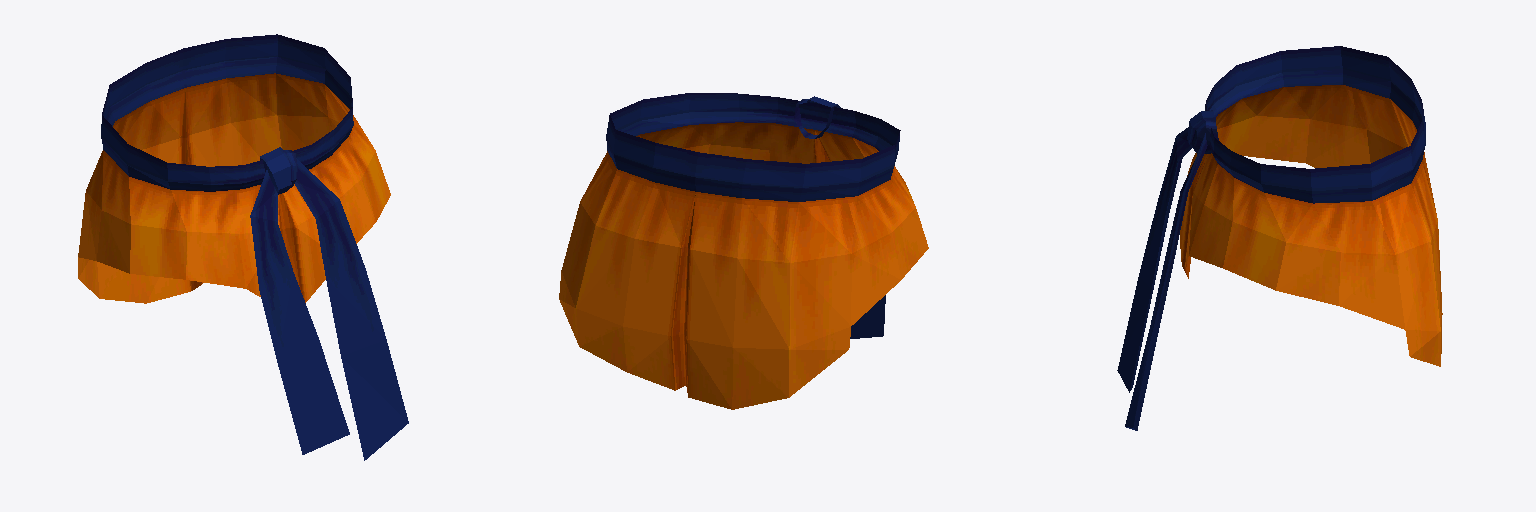
3 renders of one model, left to right at view 1: azimuth 30°, elevation 25°; view 2: azimuth 150°, elevation 25°; view 3: azimuth 270°, elevation 25°, orthographic.
Parts seen in each view (by area): view 1: Mesh.404_DrawCall_231.001; view 2: Mesh.404_DrawCall_231.001; view 3: Mesh.404_DrawCall_231.001.
Boxes of the visible parts, x1,y1,x2,y2 form: Mesh.404_DrawCall_231.001: [78, 34, 408, 460]; Mesh.404_DrawCall_231.001: [559, 93, 928, 409]; Mesh.404_DrawCall_231.001: [1117, 46, 1442, 430].
Bounding box in the file's own units: 7.82 × 7.97 × 7.52.
1 materials, 1 textured.